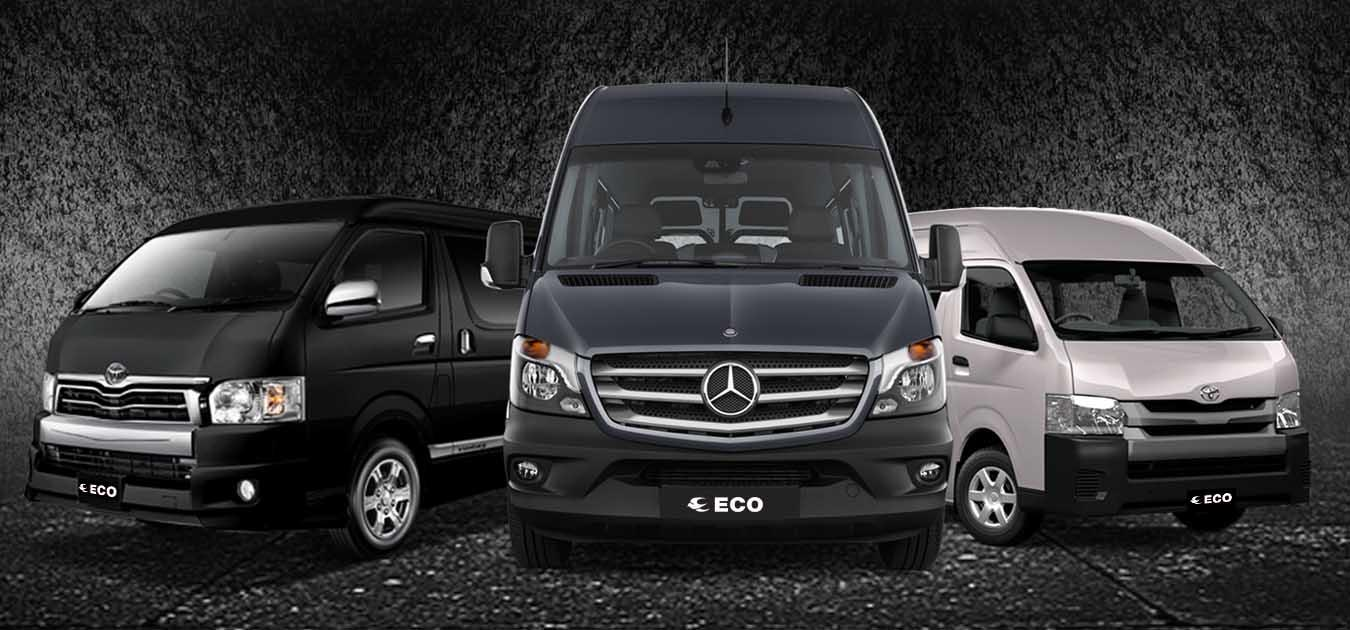van: (479, 82, 961, 568), (28, 198, 540, 559), (908, 206, 1307, 547)
